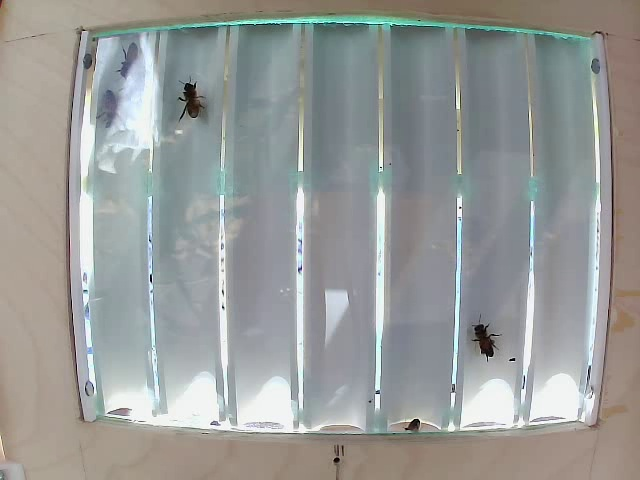bee: (175, 75, 219, 120), (88, 92, 124, 129), (466, 323, 497, 360), (119, 50, 153, 76)
